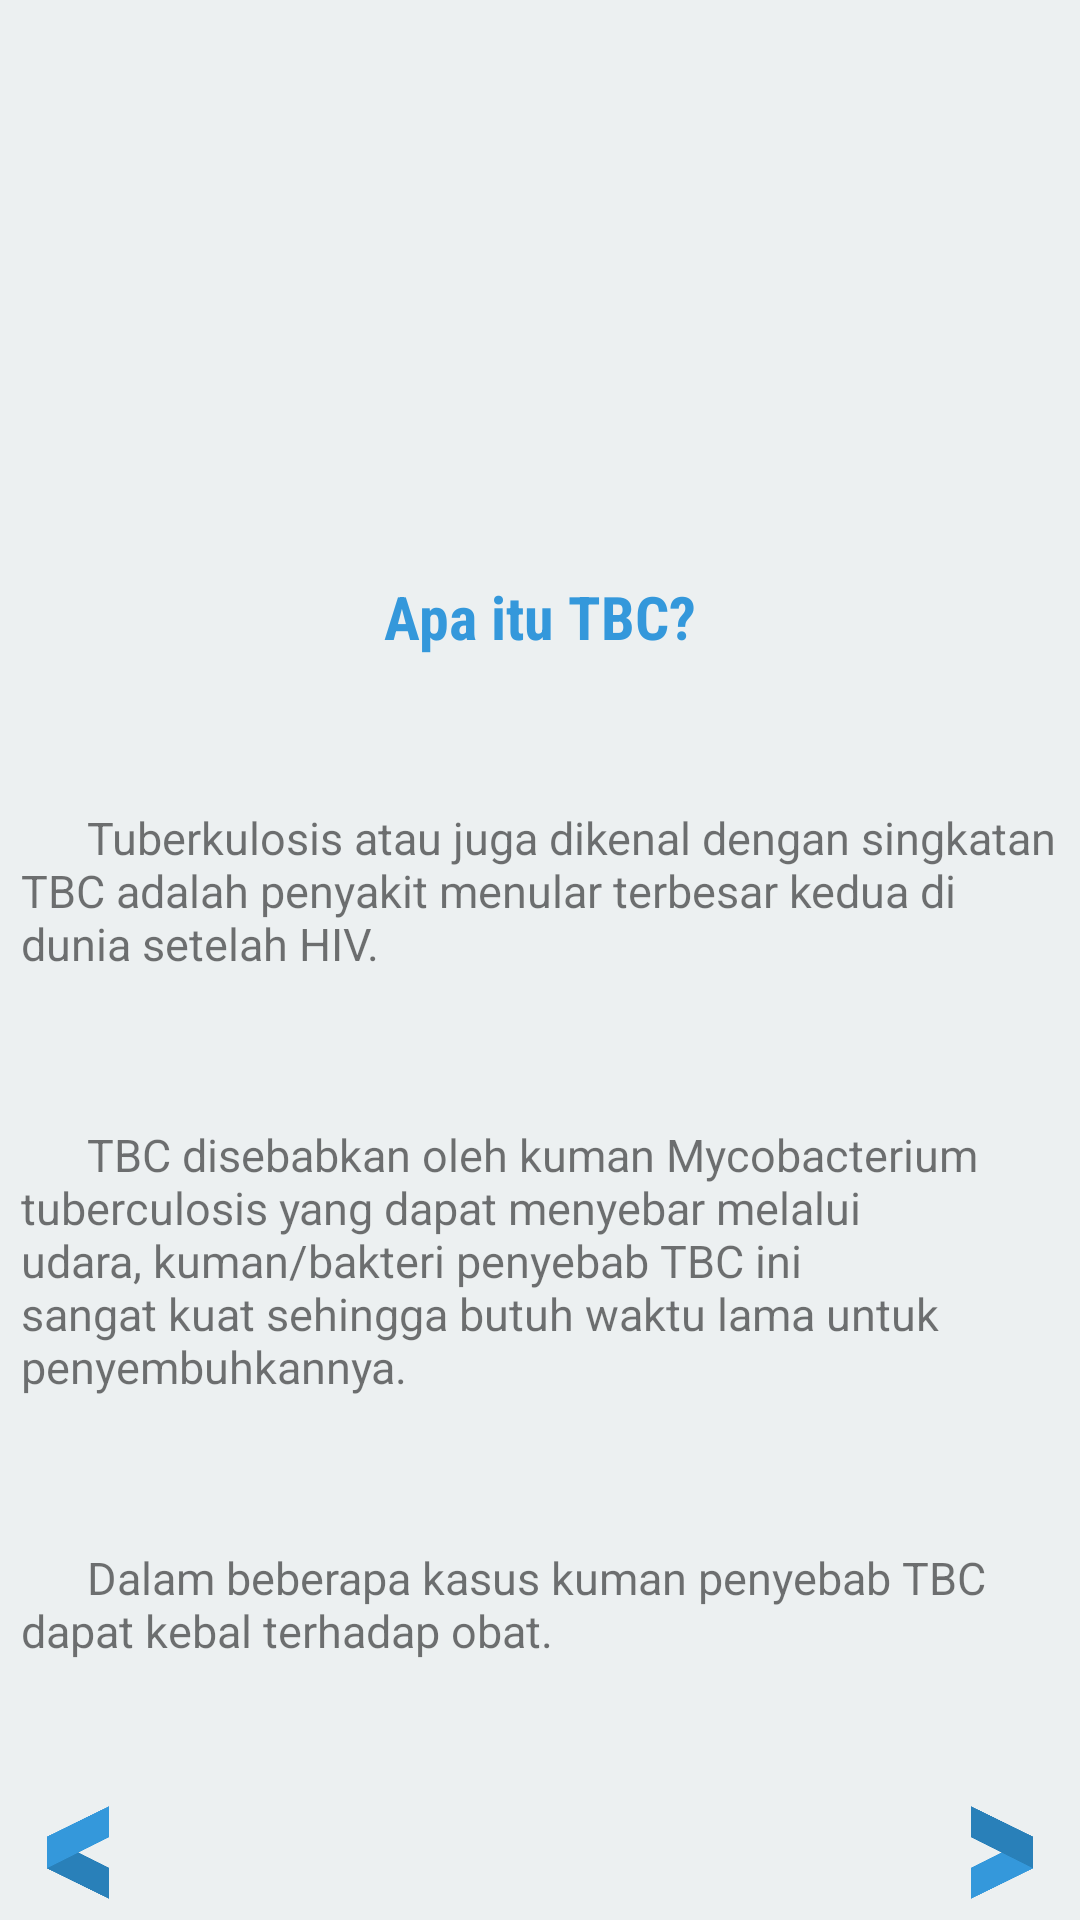

Where icons sit on this 1080px×1920px app screen, as (x1, y1, x2, y2):
back: (47, 1806, 109, 1899)
next: (971, 1806, 1033, 1899)
